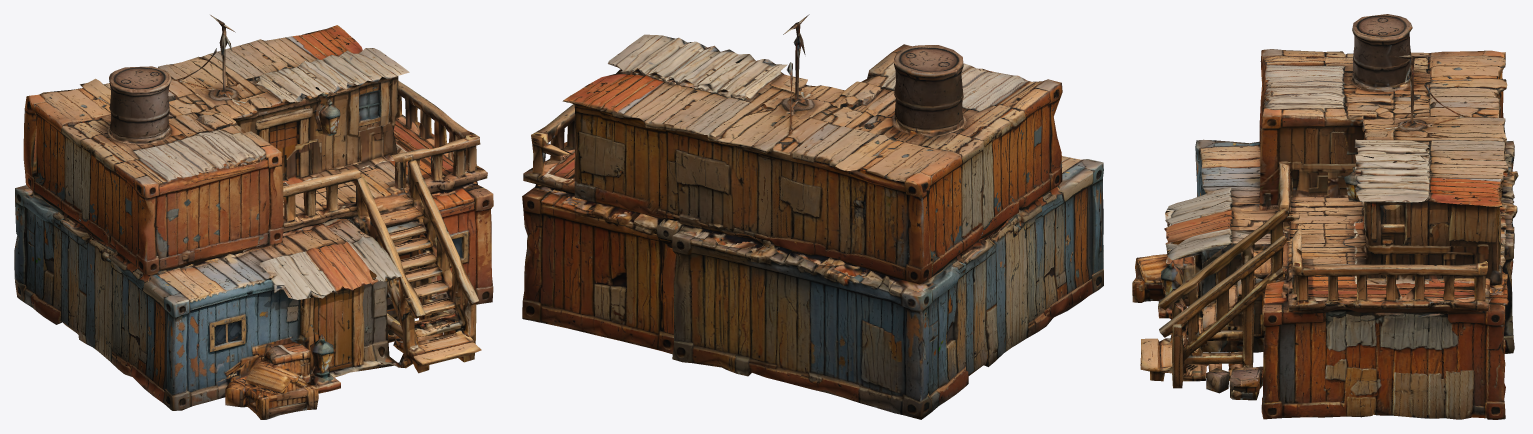
Rendered from Settle_PlayerHouse.fbx.
3 renders of one model, left to right at view 1: azimuth 30°, elevation 25°; view 2: azimuth 150°, elevation 25°; view 3: azimuth 270°, elevation 25°, orthographic. The views are drawn at different scales.
Visible parts, largest first — view 1: texture_mapping; view 2: texture_mapping; view 3: texture_mapping.
Boxes of the visible parts, x1,y1,x2,y2 form: texture_mapping: (14, 15, 493, 419); texture_mapping: (522, 14, 1103, 419); texture_mapping: (1132, 14, 1518, 419).
Bounding box in the file's own units: 0.9913 × 0.9213 × 0.716.
Materials: 1 (1 with a texture image).
